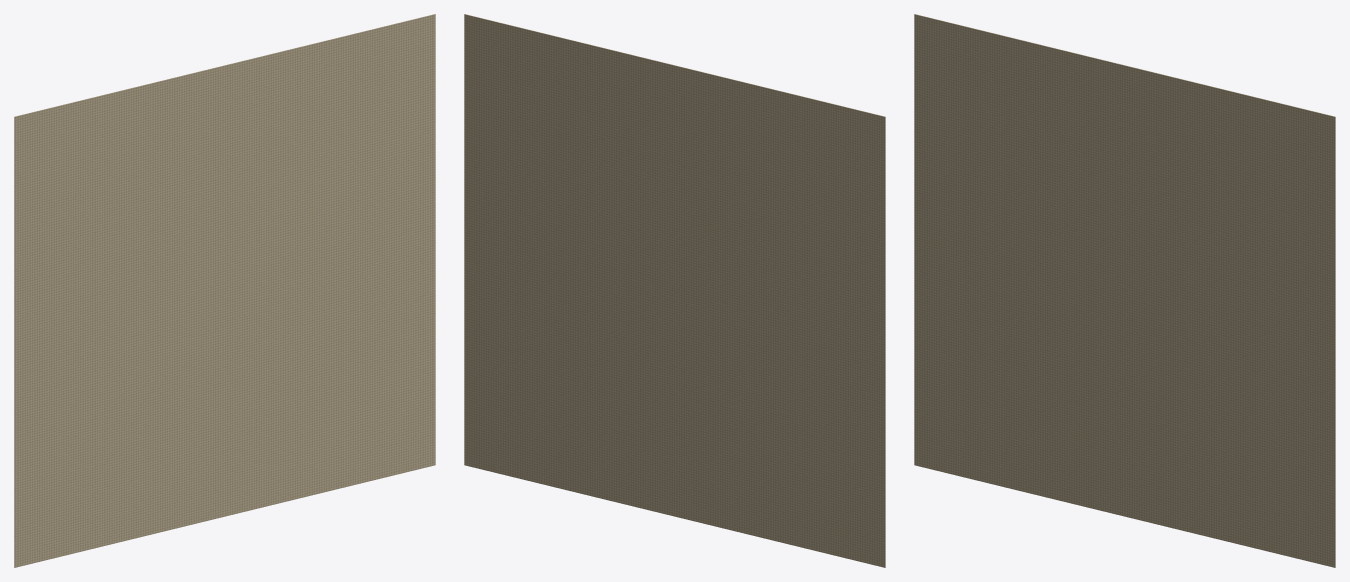
File: living_rug.obj
3 views of the same model, side by side, from view 1: azimuth 30°, elevation 25°; view 2: azimuth 150°, elevation 25°; view 3: azimuth 330°, elevation 25° (orthographic).
Visible parts, largest first — view 1: living_rug_fabric; view 2: living_rug_fabric; view 3: living_rug_fabric.
Boxes of the visible parts, left/top/right/bottom form: living_rug_fabric: left=14, top=14, right=435, bottom=567; living_rug_fabric: left=464, top=14, right=885, bottom=567; living_rug_fabric: left=914, top=14, right=1335, bottom=567.
Bounding box in the file's own units: 131 × 134 × 0.24.
1 material, 1 textured.
